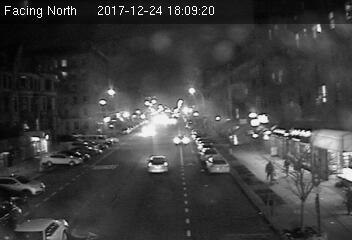car: (145, 155, 169, 173), (207, 156, 228, 173), (172, 134, 191, 145)
pedestrian: (264, 160, 275, 181)
